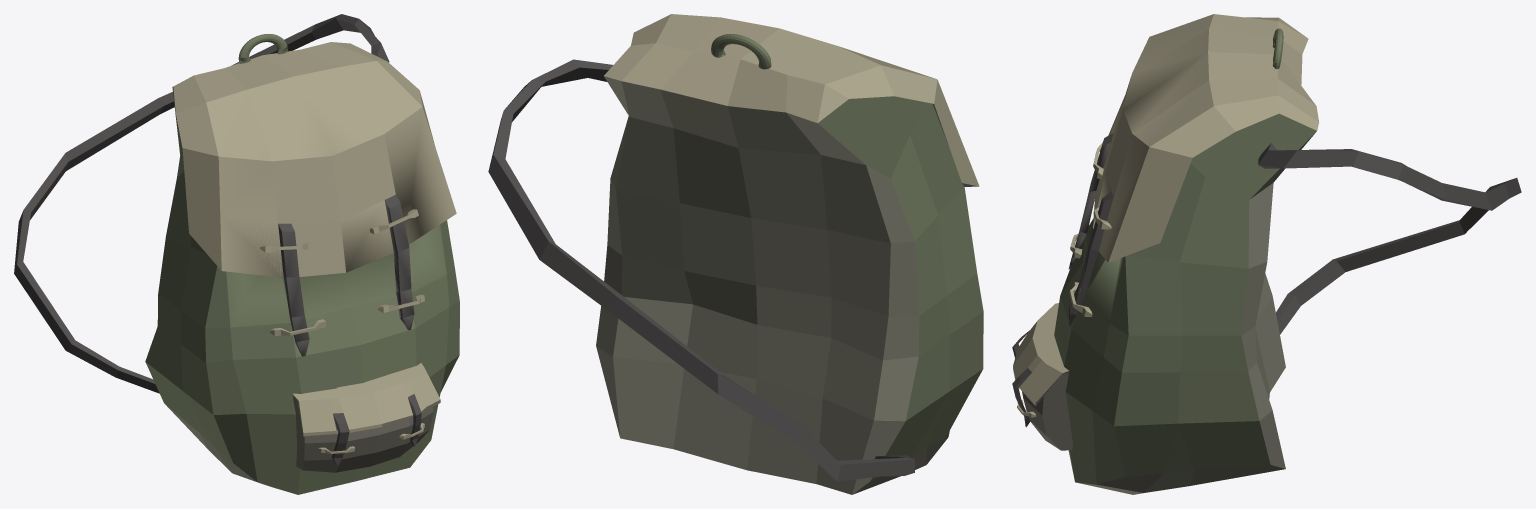
File: Backpack.fbx
The picture shows the model from 3 angles, left to right: view 1: azimuth 30°, elevation 25°; view 2: azimuth 150°, elevation 25°; view 3: azimuth 270°, elevation 25°; orthographic projection. The views are drawn at different scales.
Visible parts, largest first — view 1: Cube; view 2: Cube; view 3: Cube.
Part boxes in pixels (x1=…): Cube: x1=14, y1=14, x2=459, y2=494; Cube: x1=488, y1=14, x2=983, y2=494; Cube: x1=1012, y1=14, x2=1521, y2=494.
Bounding box in the file's own units: 121 × 145 × 155.
